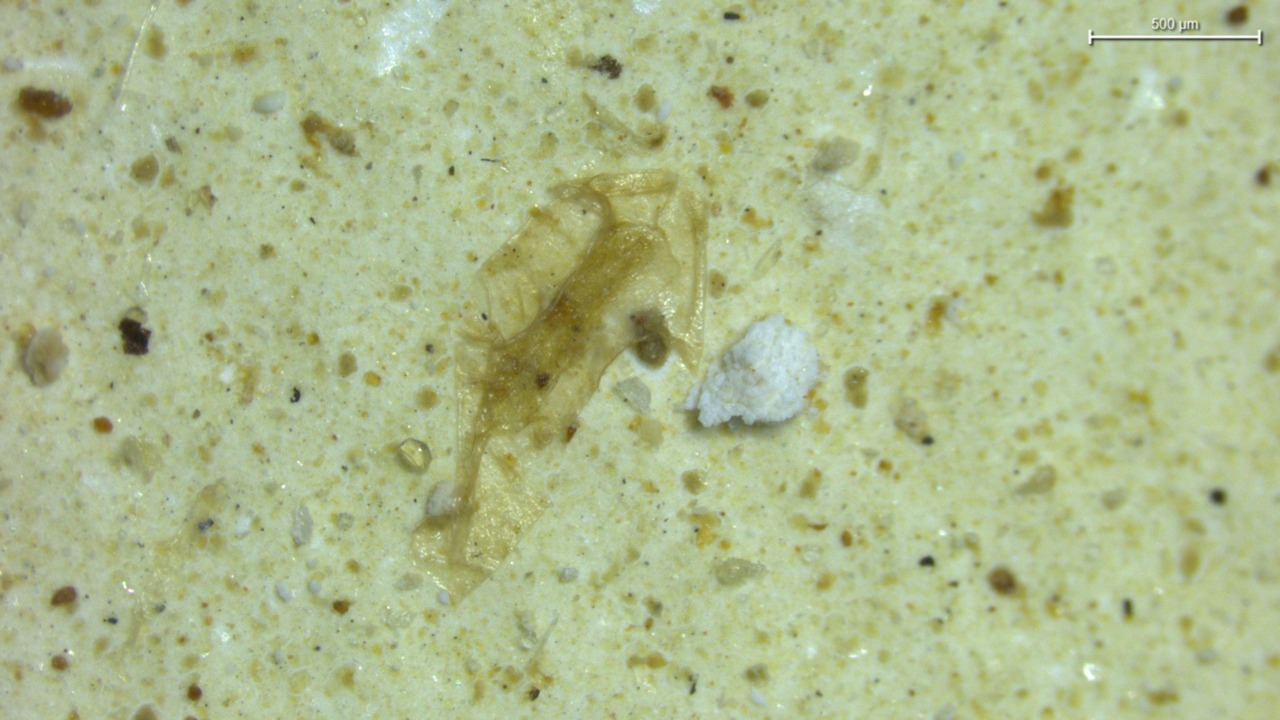microplastic_fragment: (412, 170, 707, 586), (685, 314, 819, 427), (614, 377, 651, 413), (396, 438, 431, 472), (426, 481, 458, 517)
